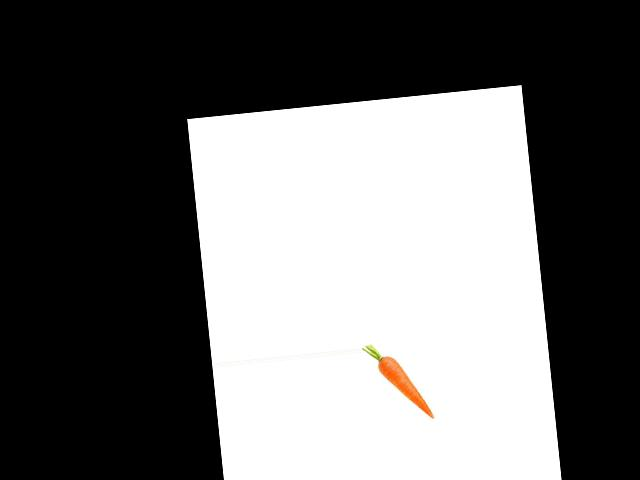carrot: (375, 347, 436, 424)
